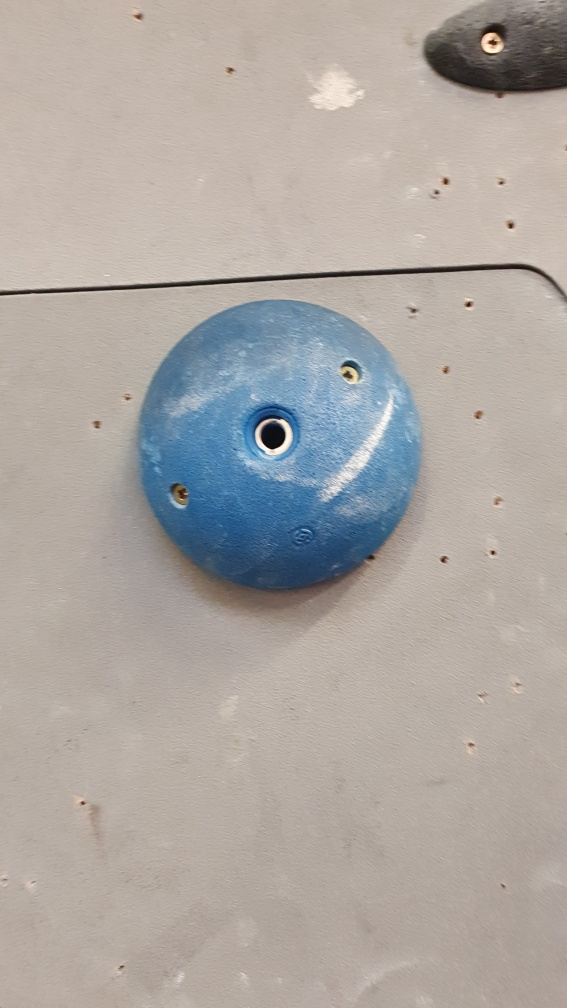Sloper: (131, 295, 426, 595)
